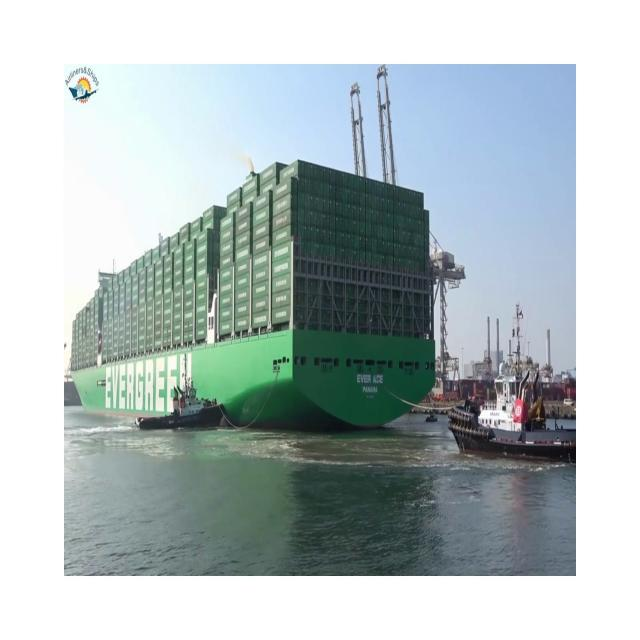OCR: (101, 348, 195, 426), (352, 365, 388, 402)
